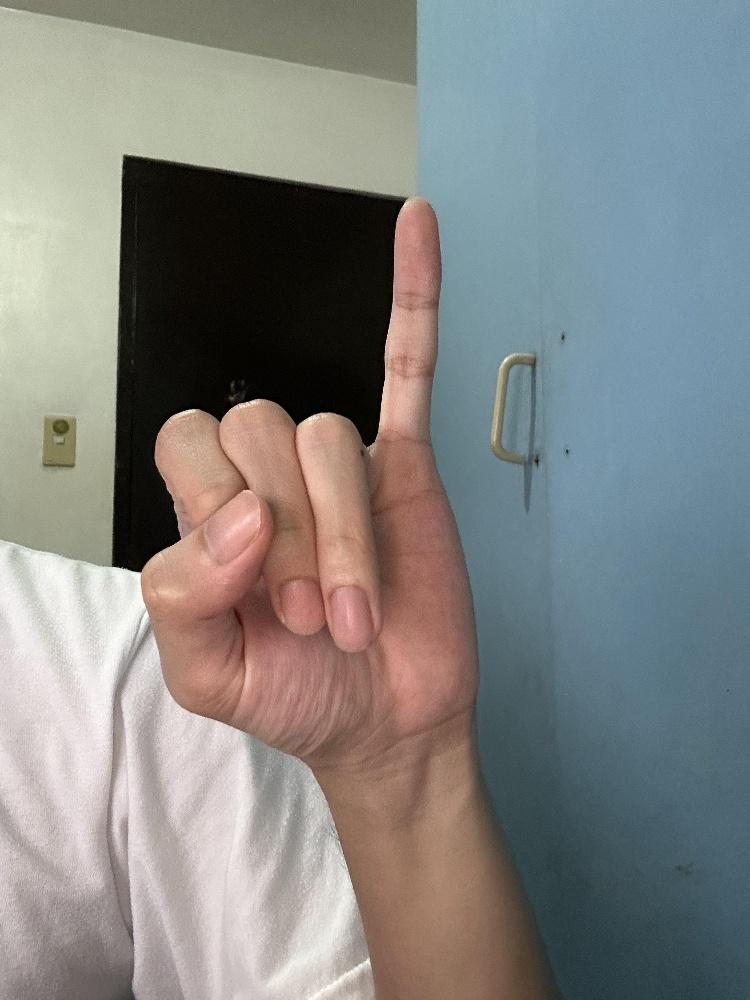i: (136, 188, 481, 771)
